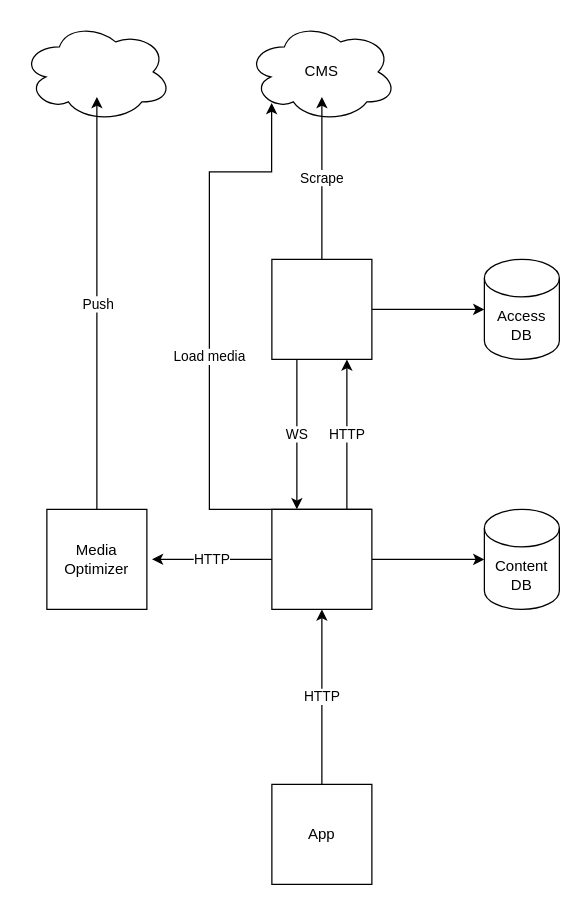
This 581x906 diagram has some shape labels left out. The shapes that lost their labels are listed below. From the top down, each one's centre as x and y in pixels, then its label:
At [96,71]: "CDN".
At [321,308]: "Contfu Server".
At [321,558]: "Contfu Client".
